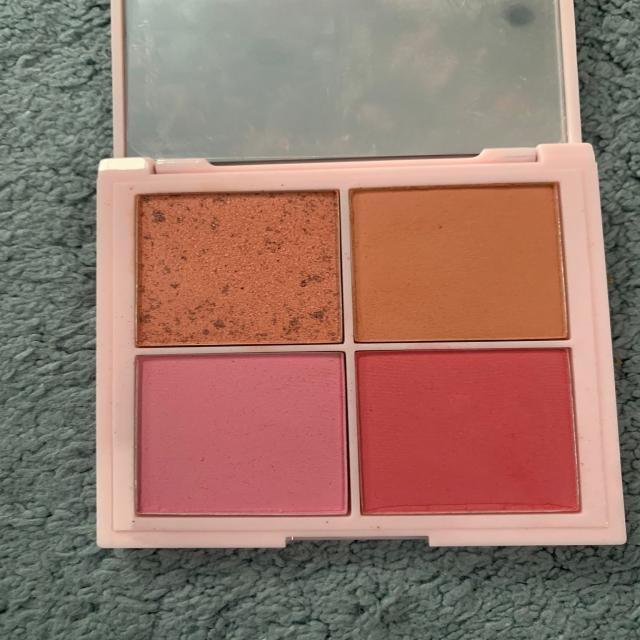eye shade: (130, 191, 587, 527)
